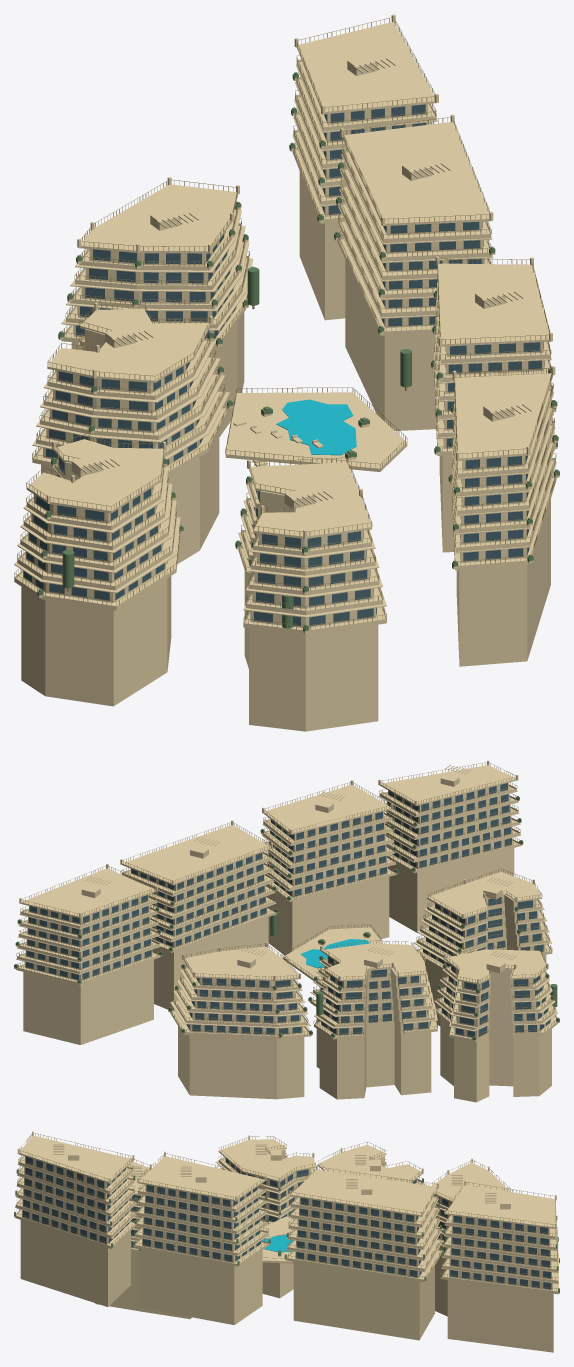
The model's file is madliena-village.glb.
The picture shows the model from 3 angles, top to bottom: view 1: azimuth 30°, elevation 25°; view 2: azimuth 150°, elevation 25°; view 3: azimuth 270°, elevation 25°; orthographic projection. The views are drawn at different scales.
Parts seen in each view (by area): view 1: Terrassenhaus West, Terrassenhaus Sued, Hinterer Block Mitte, Hinterer Block Spitze, Terrassenhaus Mitte, Terrassenhaus Nord, Hinterer Block Nord, Hinterer Block Sued, Gemeinschaftspool und Sonnenterrasse, Treppenweg und Zypressen; view 2: Hinterer Block Nord, Terrassenhaus Nord, Hinterer Block Sued, Terrassenhaus Mitte, Hinterer Block Spitze, Terrassenhaus West, Hinterer Block Mitte, Terrassenhaus Sued, Gemeinschaftspool und Sonnenterrasse, Treppenweg und Zypressen; view 3: Hinterer Block Mitte, Hinterer Block Sued, Hinterer Block Nord, Hinterer Block Spitze, Terrassenhaus West, Terrassenhaus Nord, Terrassenhaus Mitte, Terrassenhaus Sued, Gemeinschaftspool und Sonnenterrasse.
Part boxes in pixels (<box>): Terrassenhaus West: <box>14,434,183,706</box>; Terrassenhaus Sued: <box>235,457,386,731</box>; Hinterer Block Mitte: <box>334,114,495,430</box>; Hinterer Block Spitze: <box>448,366,559,666</box>; Terrassenhaus Mitte: <box>32,302,233,563</box>; Terrassenhaus Nord: <box>58,177,253,437</box>; Hinterer Block Nord: <box>289,14,438,320</box>; Hinterer Block Sued: <box>431,256,557,552</box>; Gemeinschaftspool und Sonnenterrasse: <box>225,387,407,471</box>; Treppenweg und Zypressen: <box>62,267,411,628</box>; Hinterer Block Nord: <box>14,864,162,1044</box>; Terrassenhaus Nord: <box>168,942,312,1099</box>; Hinterer Block Sued: <box>260,780,398,955</box>; Terrassenhaus Mitte: <box>308,940,437,1099</box>; Hinterer Block Spitze: <box>378,760,523,932</box>; Terrassenhaus West: <box>434,946,559,1102</box>; Hinterer Block Mitte: <box>120,820,278,1009</box>; Terrassenhaus Sued: <box>413,868,552,1025</box>; Gemeinschaftspool und Sonnenterrasse: <box>282,924,384,981</box>; Treppenweg und Zypressen: <box>270,913,557,1017</box>; Hinterer Block Mitte: <box>284,1165,443,1340</box>; Hinterer Block Sued: <box>133,1151,270,1325</box>; Hinterer Block Nord: <box>440,1180,559,1352</box>; Hinterer Block Spitze: <box>14,1131,138,1306</box>; Terrassenhaus West: <box>215,1135,315,1298</box>; Terrassenhaus Nord: <box>428,1158,512,1316</box>; Terrassenhaus Mitte: <box>317,1142,425,1184</box>; Terrassenhaus Sued: <box>95,1158,191,1319</box>; Gemeinschaftspool und Sonnenterrasse: <box>261,1213,294,1263</box>.
Size of the model in its own units: 116 by 62.89 by 147.
